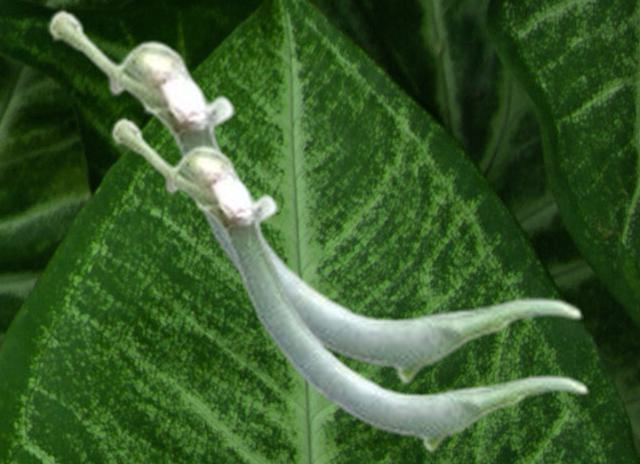french_bean: (47, 8, 582, 384), (110, 116, 588, 452)
